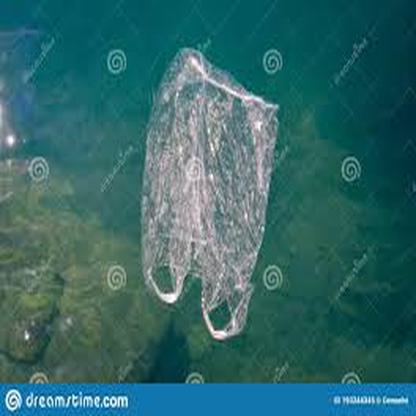plastic bag: (142, 47, 281, 340)
